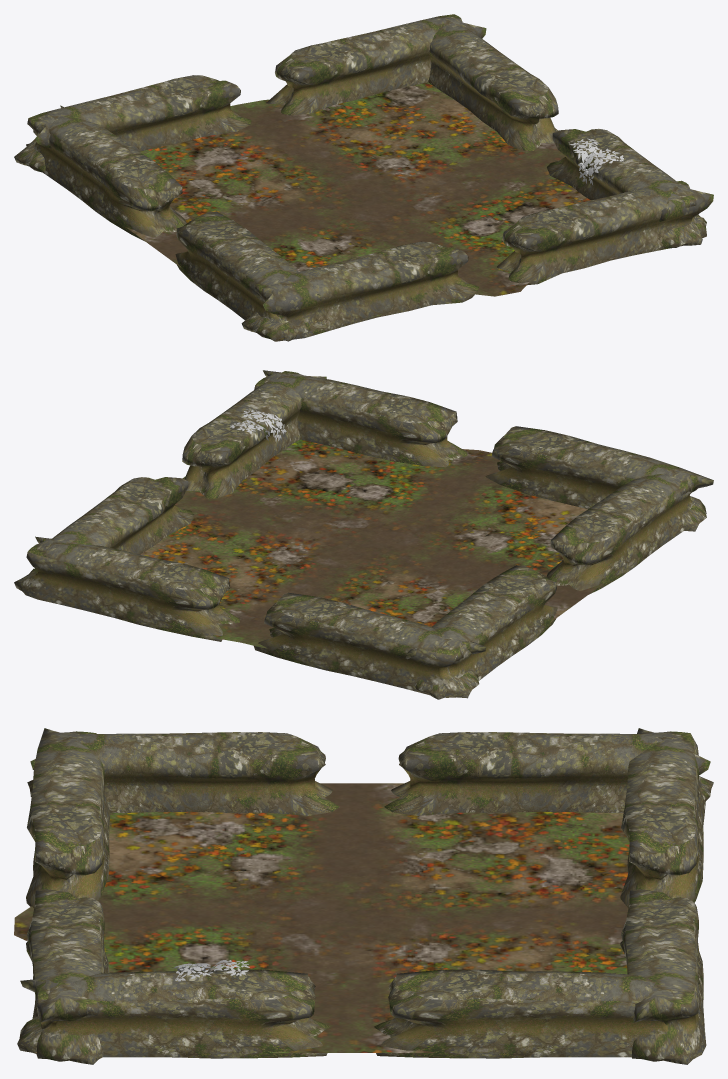
The model's file is Exterior_4 _Puertas_Grande.fbx.
3 views of the same model, one above another, from view 1: azimuth 30°, elevation 25°; view 2: azimuth 150°, elevation 25°; view 3: azimuth 270°, elevation 25° (orthographic). The views are drawn at different scales.
Visible parts, largest first — view 1: polySurface108; view 2: polySurface108; view 3: polySurface108.
Boxes of the visible parts, x1,y1,x2,y2 form: polySurface108: (14,14,713,341); polySurface108: (14,370,713,699); polySurface108: (14,728,713,1064).
Size of the model in its own units: 503 by 57.98 by 513.
